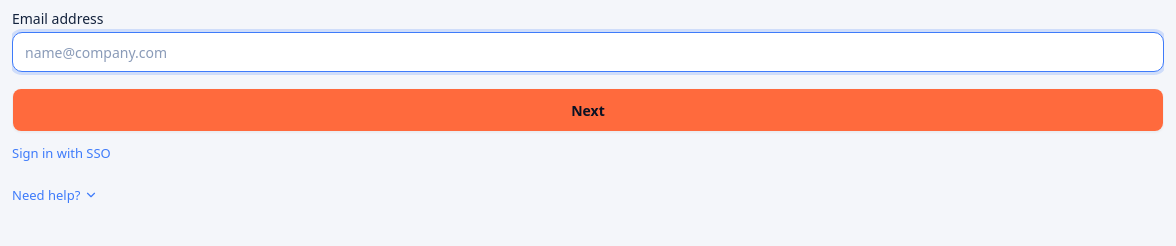
Test: SignInForm › asks for the email first, then the master password
The width and height of the screenshot is (1176, 246).
Check: the field labelled "Master password" is not shown
Type "  sara@clane.ai " into the field labelled "Email address". click: (588, 52)
box: [12,32,1164,72]
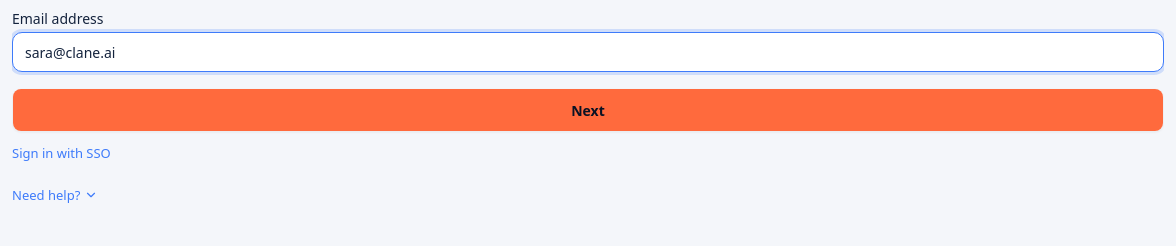
Click the button "Next". click: (588, 110)
box: [12,88,1164,132]
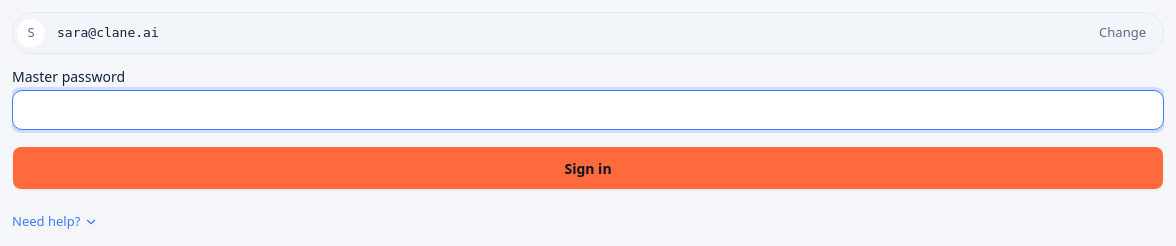
Check: the text "sara@clane.ai" is shown, box [56,24,159,40]
Check: the label labelled "Email address" is gone
